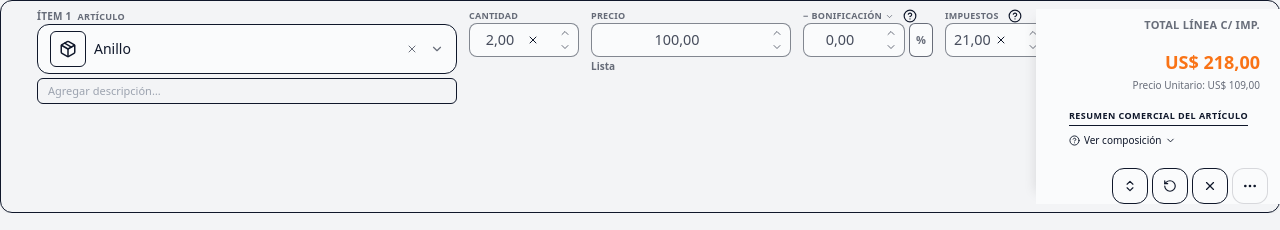
Test: T17 — Moneda del comprobante consistente en cards y totales › card de Impuestos abierto en US$ → totales en US$, no AR$
The image size is (1280, 230).
# Abrir el card.
What coordinates should you click on to do the following:
click the button named "detalle de impuestos"
I would click on:
 (1015, 16)
Its box is [1005,6,1025,26].
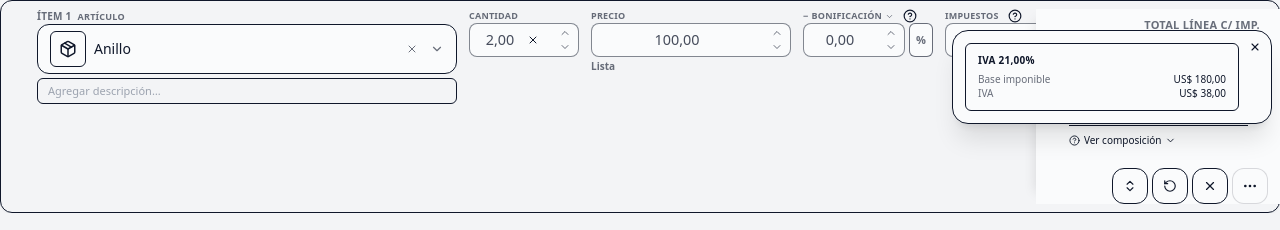
Expected: the element showing "IVA 21,00% Base imponible US$ 180,00 IVA US$ 38,00" is shown, [965,43,1239,110]
